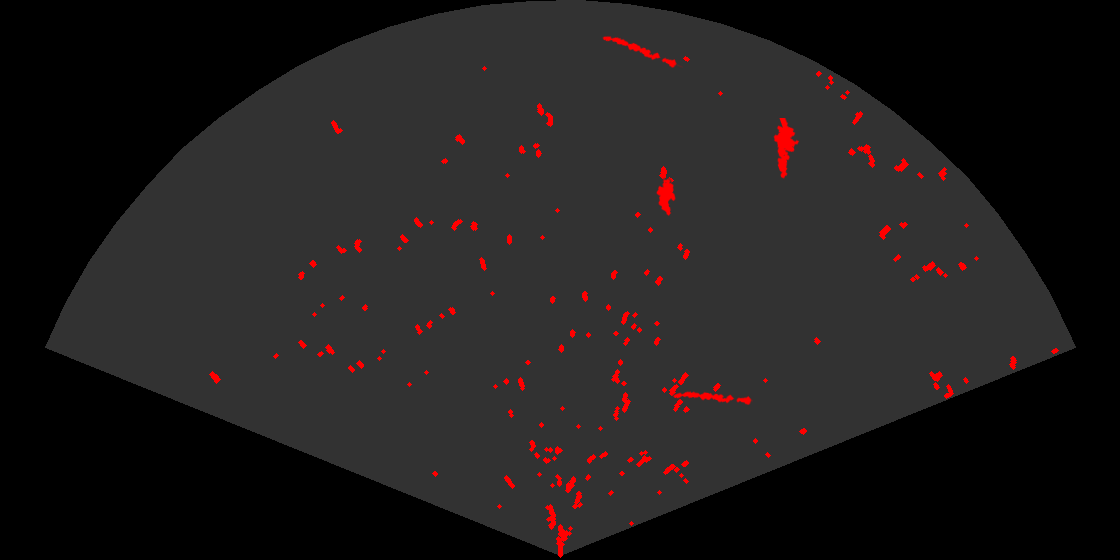AUV: (655, 177, 677, 218)
chain: (601, 34, 683, 69), (671, 389, 753, 406)
frogman: (772, 118, 801, 181)
